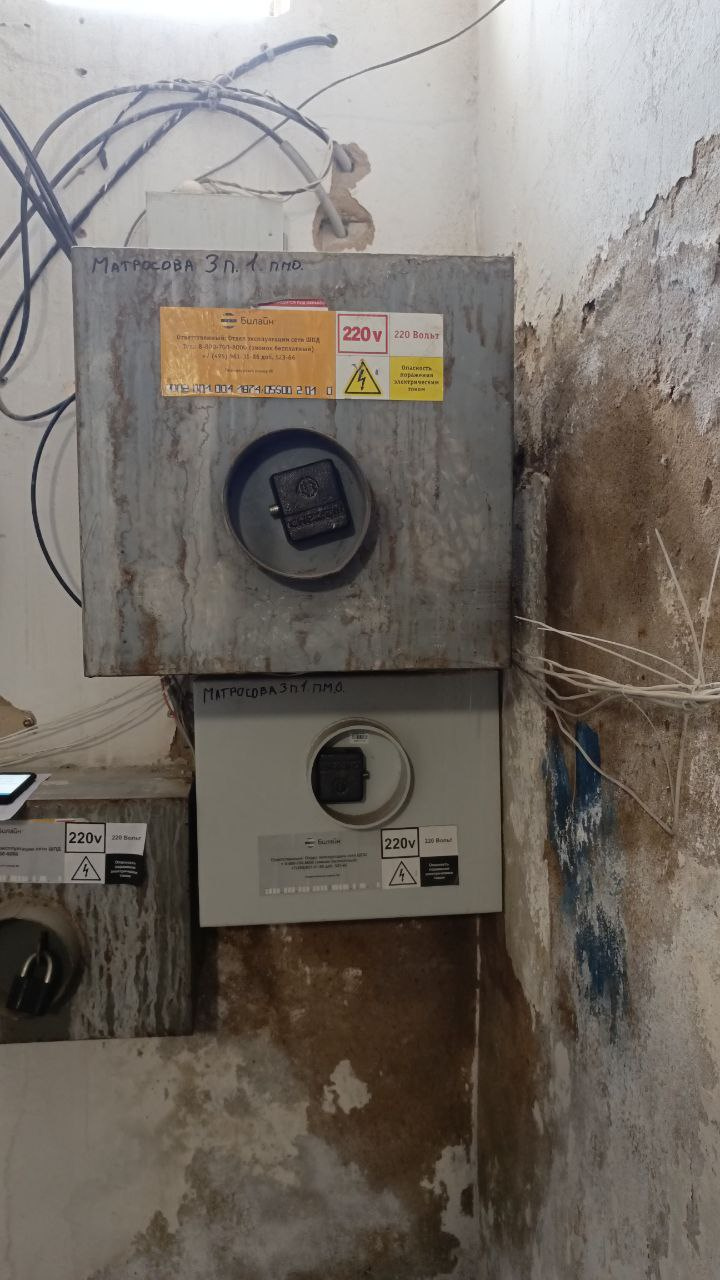shta-3: (188, 671, 509, 927), (2, 758, 194, 1045)
shta-9: (63, 239, 517, 676)
